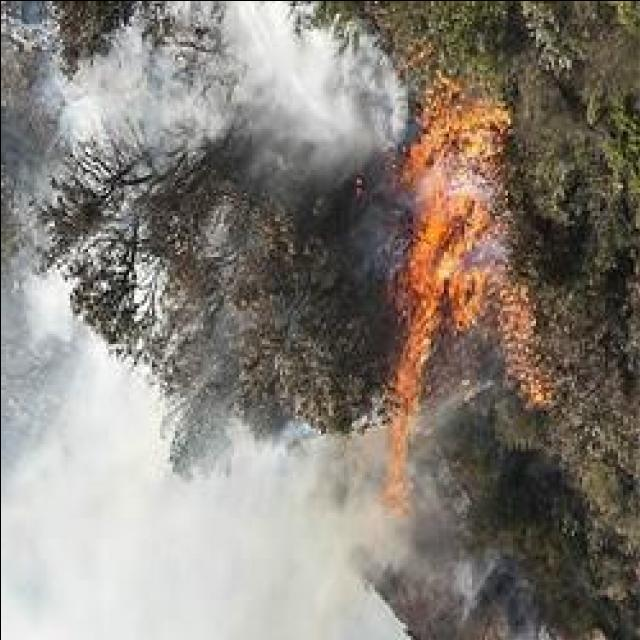fire: (412, 250, 443, 300), (422, 210, 457, 247), (461, 114, 493, 138), (412, 301, 433, 331), (449, 278, 468, 302)
smoke: (0, 494, 154, 638), (157, 528, 345, 636), (44, 390, 146, 498), (260, 35, 336, 132), (327, 42, 399, 136), (245, 464, 314, 556), (16, 278, 74, 343), (233, 0, 290, 57), (332, 518, 398, 564), (109, 44, 142, 104), (64, 88, 98, 136), (450, 162, 482, 198), (470, 234, 506, 265)
